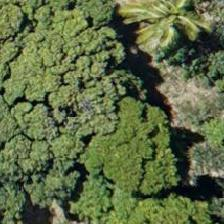coconut_tree: (121, 0, 211, 60)
